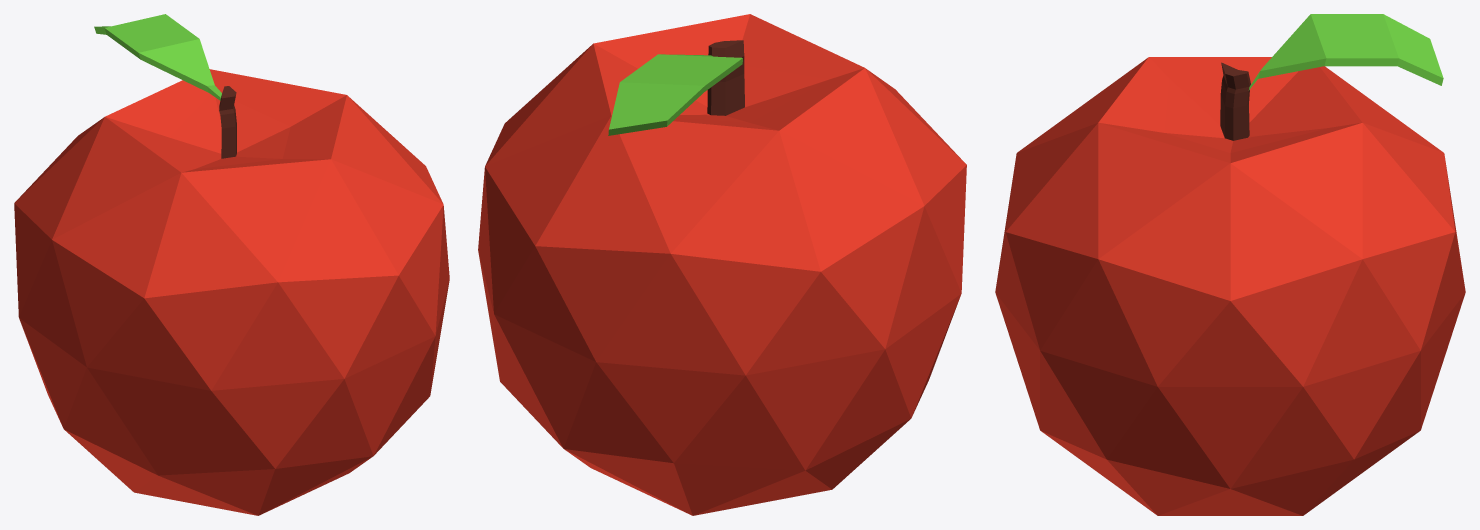
File: AppleFull.fbx
3 renders of one model, left to right at view 1: azimuth 30°, elevation 25°; view 2: azimuth 150°, elevation 25°; view 3: azimuth 270°, elevation 25°, orthographic. The views are drawn at different scales.
Visible parts, largest first — view 1: AppleFull; view 2: AppleFull; view 3: AppleFull.
Part boxes in pixels (<box>): AppleFull: <box>14,14,449,515</box>; AppleFull: <box>478,14,966,515</box>; AppleFull: <box>995,14,1465,515</box>.
Size of the model in its own units: 196 by 216 by 200.
